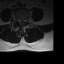CCS_normal: (21, 17, 23, 25)
LFS_normal: (25, 17, 26, 23)
LLS_normal: (23, 17, 24, 25)
RFS_normal: (17, 16, 19, 23)
RLS_normal: (19, 17, 21, 25)
